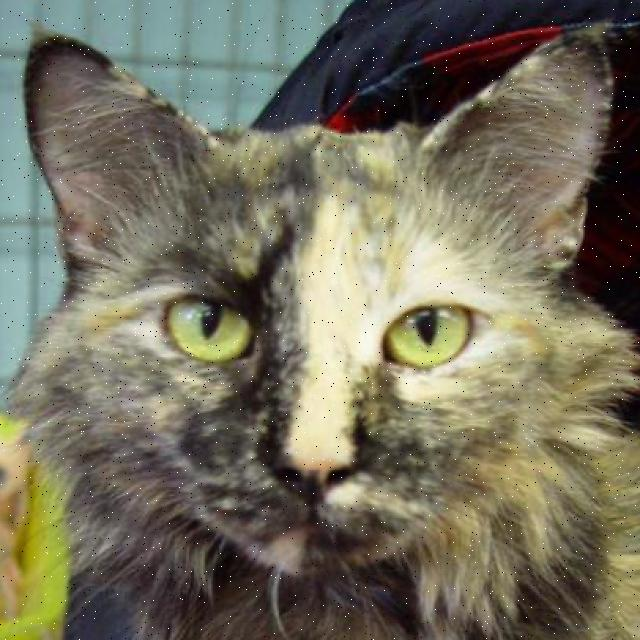Cat: (14, 8, 623, 626)
